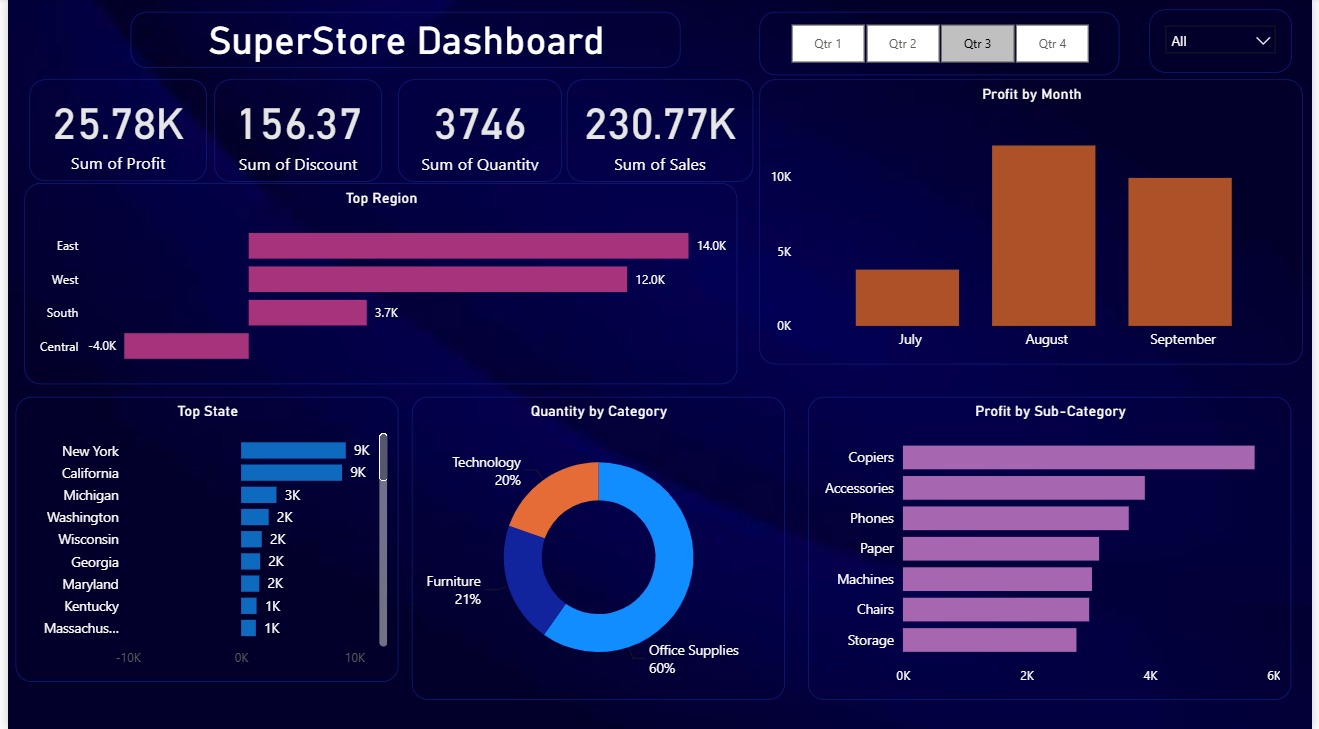

The page's visual inventory and layout, read from the dashboard file:
{"tool":"powerbi","page":{"name":"Page 1","canvas":[1280,720],"ordinal":0},"visuals":[{"type":"columnChart","title":"Profit by Month","fields":{"Category":["FactSales.Order Date.Variation.Date Hierarchy.Month"],"Y":["Sum(DimProducts.Profit)"]},"box":[736.9,79.6,533.8,279.9],"z":0},{"type":"barChart","title":"Profit by Sub-Category","fields":{"Category":["DimProducts.Sub-Category"],"Y":["Sum(DimProducts.Profit)"]},"box":[784.9,391.1,474.8,297.8],"z":1000},{"type":"donutChart","title":" Quantity by Category","fields":{"Category":["DimProducts.Category"],"Y":["Sum(DimProducts.Quantity)"]},"box":[396.6,391.1,366.4,297.8],"z":2000},{"type":"barChart","title":"Top State","fields":{"Category":["FactSales.State"],"Y":["Sum(DimProducts.Profit)"]},"box":[6.9,391.1,376,279.9],"z":3000},{"type":"card","fields":{"Values":["Sum(DimProducts.Profit)"]},"box":[20.6,79.6,174.3,100.2],"z":4000},{"type":"card","fields":{"Values":["Sum(DimProducts.Discount)"]},"box":[202.5,79.8,164.4,100.6],"z":5000},{"type":"card","fields":{"Values":["Sum(DimProducts.Quantity)"]},"box":[382.8,79.8,160.7,100.6],"z":6000},{"type":"card","fields":{"Values":["Sum(DimProducts.Sales)"]},"box":[548.5,79.8,182.8,100.6],"z":7000},{"type":"clusteredBarChart","title":"Top Region","fields":{"Category":["FactSales.Region"],"Y":["Sum(DimProducts.Profit)"]},"box":[16.5,181.1,699.8,197.6],"z":8000},{"type":"textbox","title":"SuperStore Dashboard","box":[120.2,13.5,539.9,55.2],"z":9000},{"type":"slicer","fields":{"Values":["FactSales.Order Date.Variation.Date Hierarchy.Quarter"]},"box":[737.4,13.5,353.4,62.6],"z":10000},{"type":"slicer","fields":{"Values":["FactSales.State"]},"box":[1120.3,11,139.9,62.6],"z":11000}]}

Visuals, with their boxes in screenshot pixels (x1, y1, x2, y2), scaled from the page's 1280x720 canvas onto the 1319x729 screenshot:
"Profit by Month" columnChart: BBox(759, 81, 1309, 364)
"Profit by Sub-Category" barChart: BBox(809, 396, 1298, 698)
" Quantity by Category" donutChart: BBox(409, 396, 786, 698)
"Top State" barChart: BBox(7, 396, 395, 679)
card - Sum(DimProducts.Profit): BBox(21, 81, 201, 182)
card - Sum(DimProducts.Discount): BBox(209, 81, 378, 183)
card - Sum(DimProducts.Quantity): BBox(394, 81, 560, 183)
card - Sum(DimProducts.Sales): BBox(565, 81, 754, 183)
"Top Region" clusteredBarChart: BBox(17, 183, 738, 383)
"SuperStore Dashboard" textbox: BBox(124, 14, 680, 70)
slicer - FactSales.Order Date.Variation.Date Hierarchy.Quarter: BBox(760, 14, 1124, 77)
slicer - FactSales.State: BBox(1154, 11, 1299, 75)
